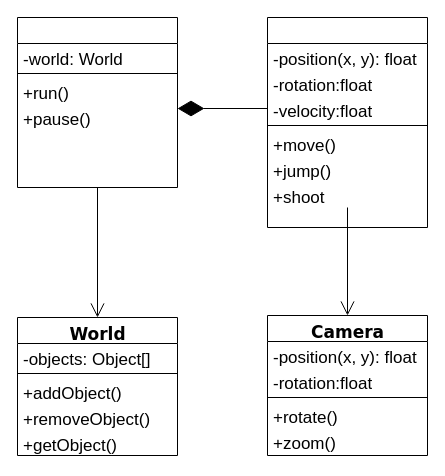
Some shapes in this 445 by 476 pixel diagram are drawn without their labels. Here are the shapes that lost their labels. From the top down, the box of each, then its label:
(16, 16, 178, 188): <<Game>>
(266, 16, 428, 228): Player
